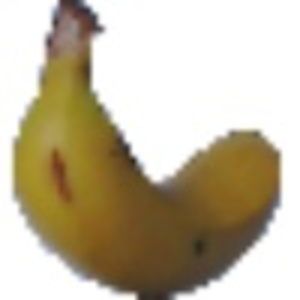banana: (8, 2, 284, 291)
